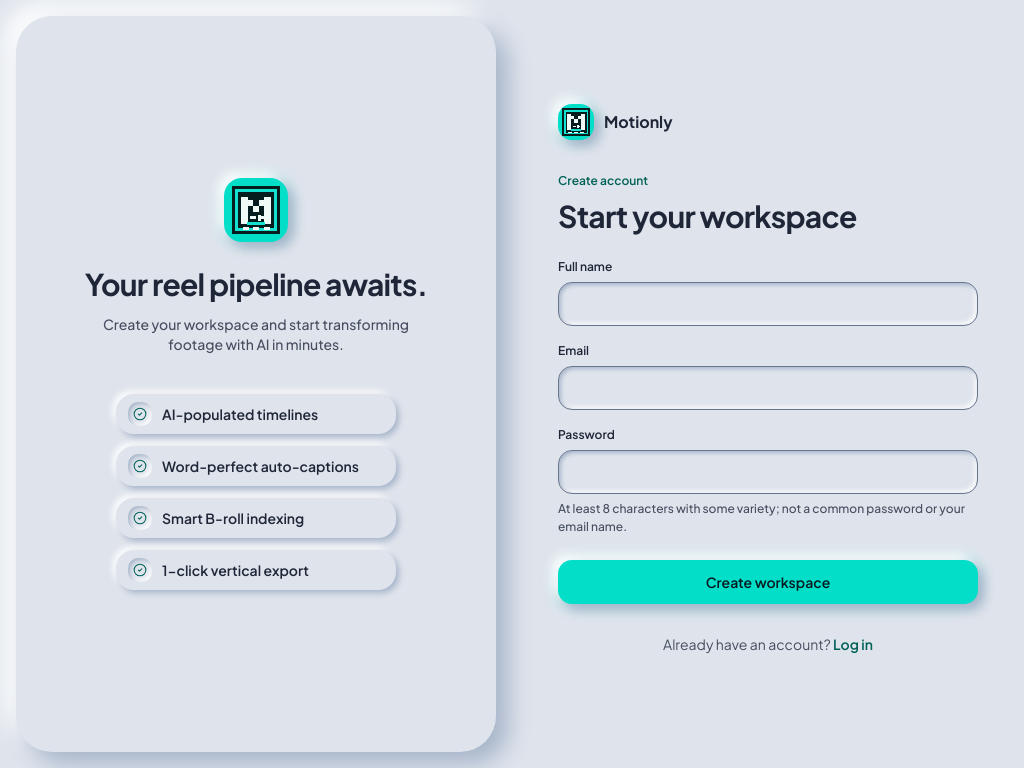
it: signup strength meter › follows the server policy instead of length alone
Type "password123" into the password field labelled "Password". click: (768, 472)
box: [558,450,978,494]
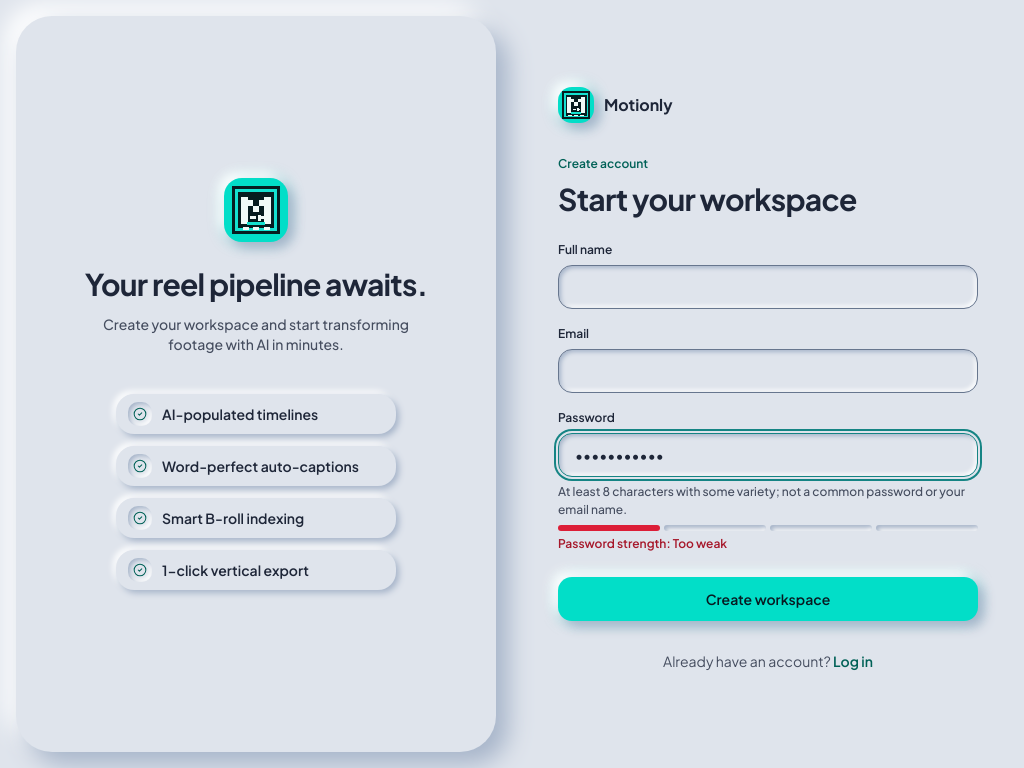
Expected: the text "Password strength: Too weak" is shown, [558,536,727,551]
Clear the password field labelled "Password". click: (768, 455)
box: [558,433,978,477]
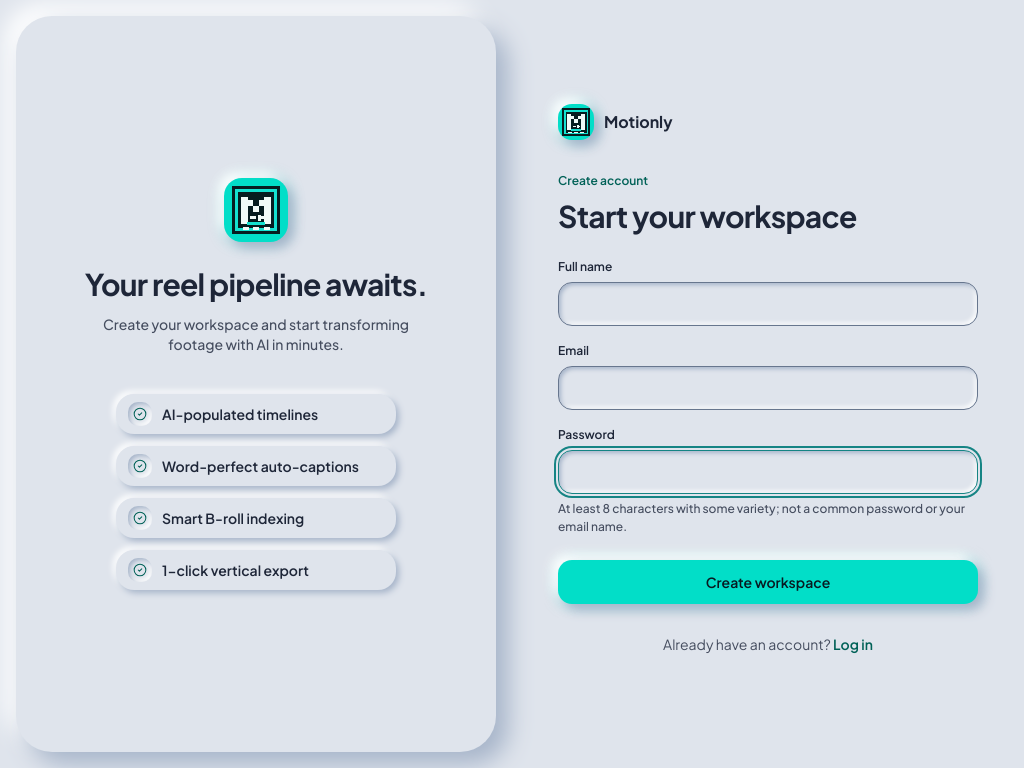
Type "Plum-orchard-42-Xy" into the password field labelled "Password". click: (768, 472)
box: [558,450,978,494]
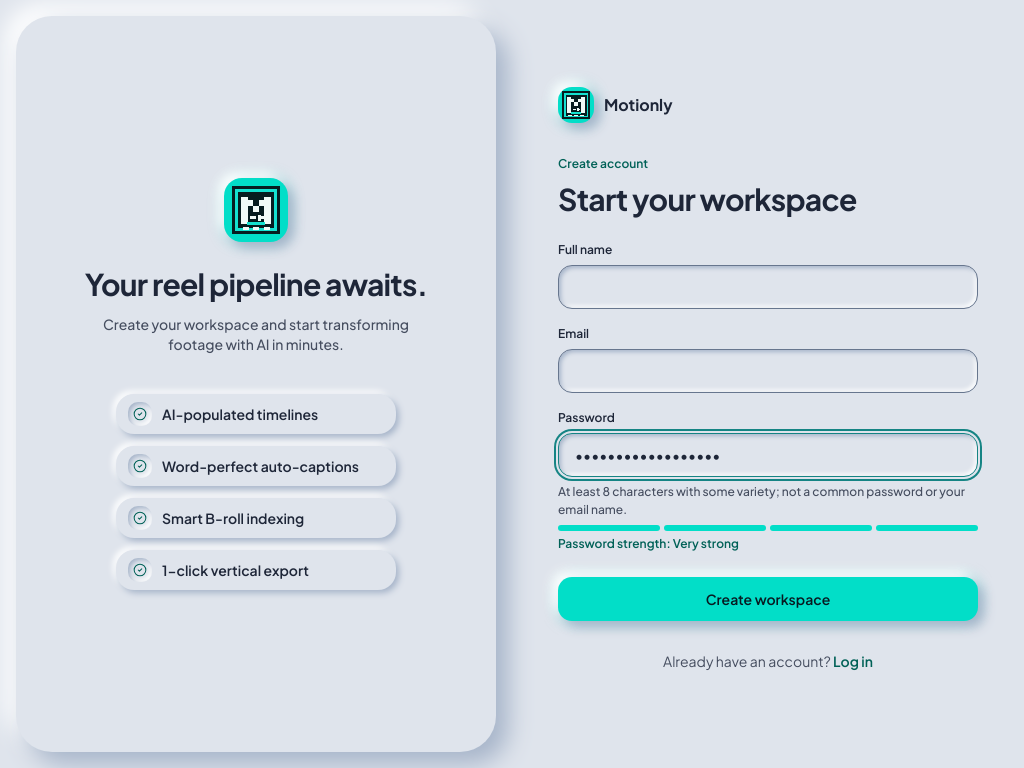
Expected: the text "Password strength: Very strong" is shown, [558,536,739,551]
